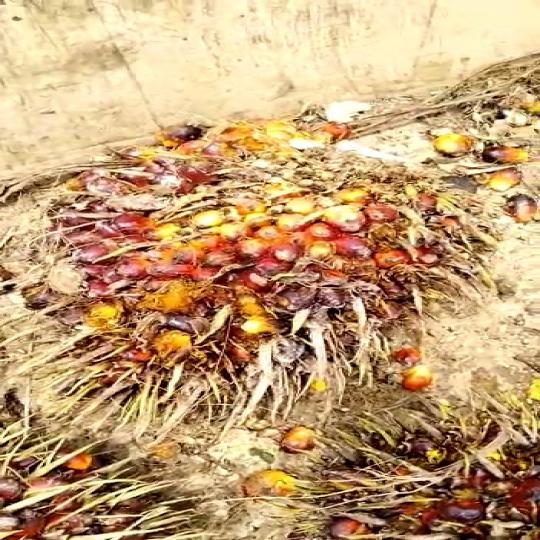masak: (4, 119, 506, 390)
